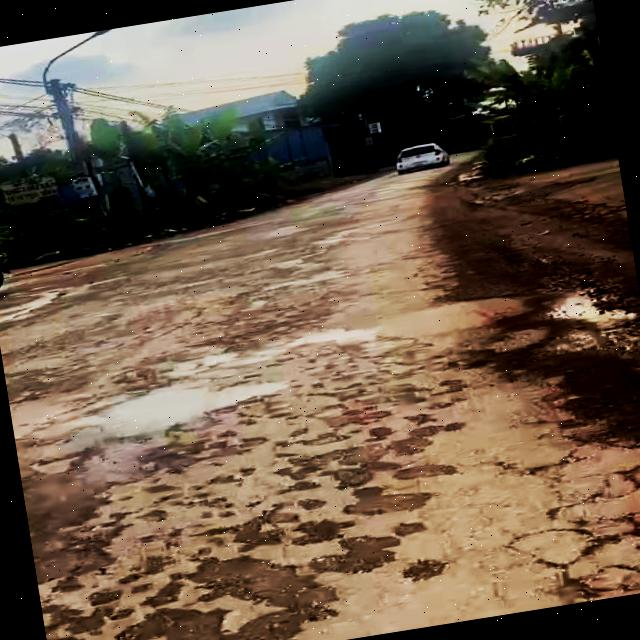pothole: (541, 458, 640, 605), (522, 270, 640, 364)
